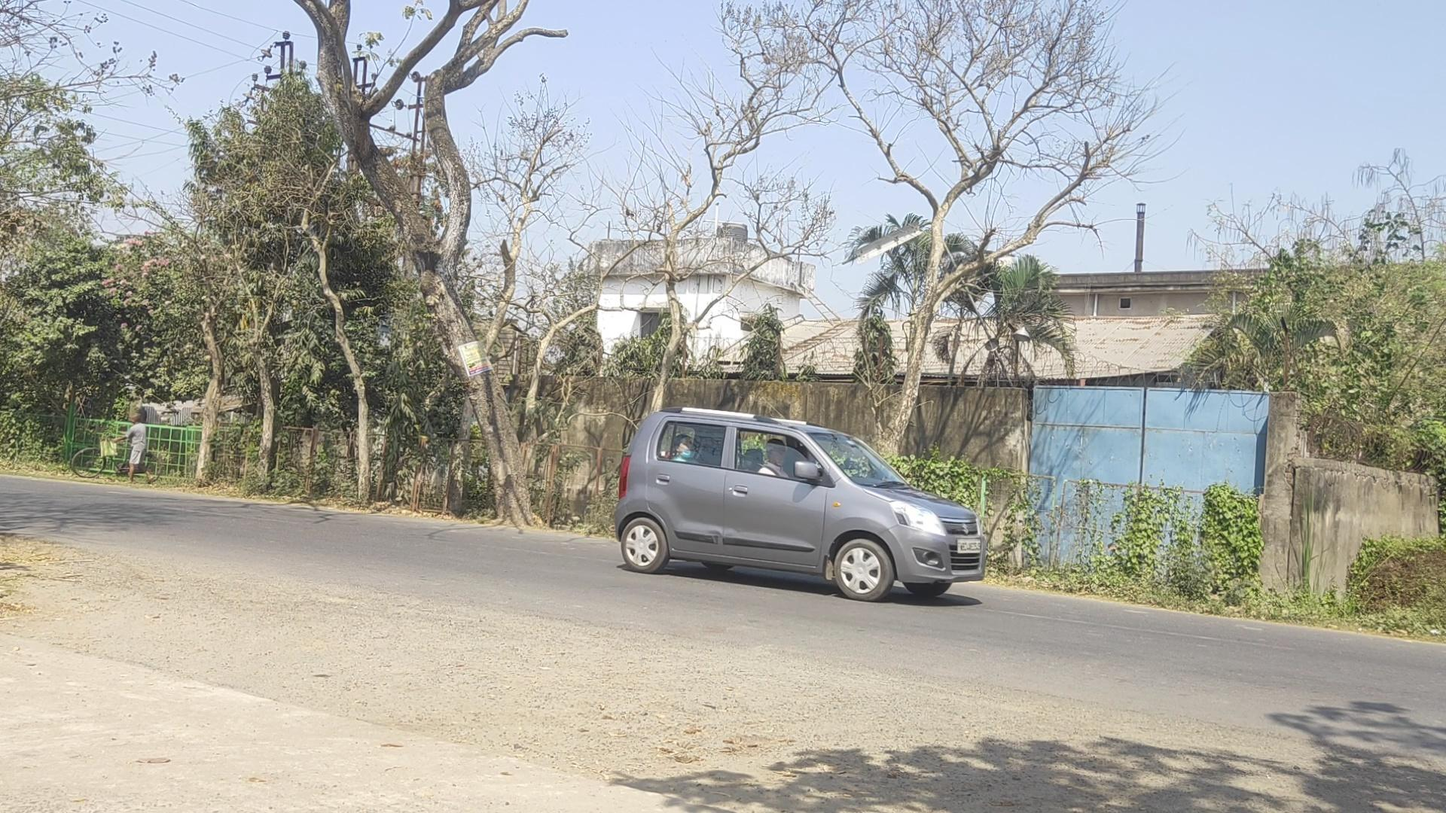bike: (72, 413, 160, 485)
car: (614, 406, 986, 602)
